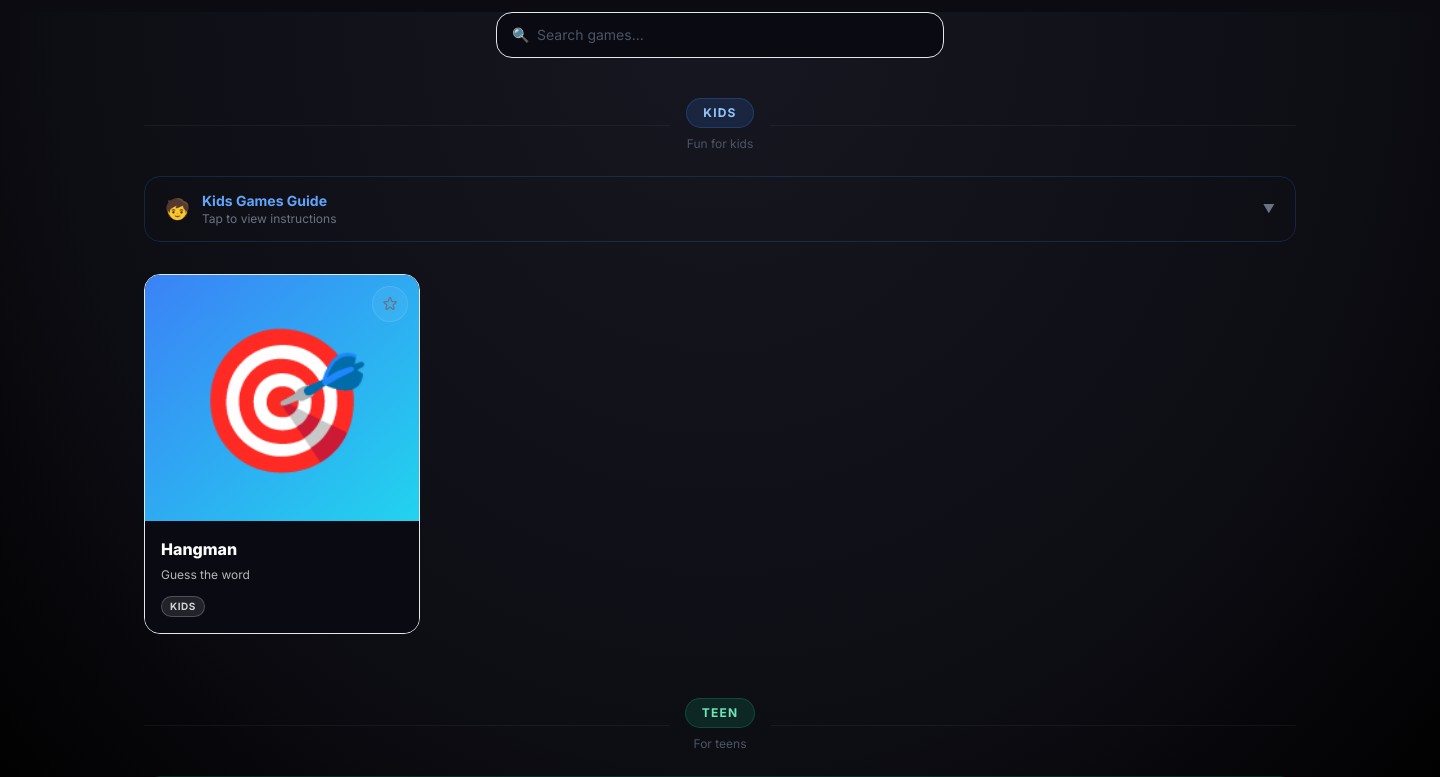
Scenario: GamesClient › expands HowToPlay box on click
The width and height of the screenshot is (1440, 777).
Click the button "🧒 Kids Games Guide Tap to view instructions ▼" at (264, 200), box [144, 176, 1296, 242]
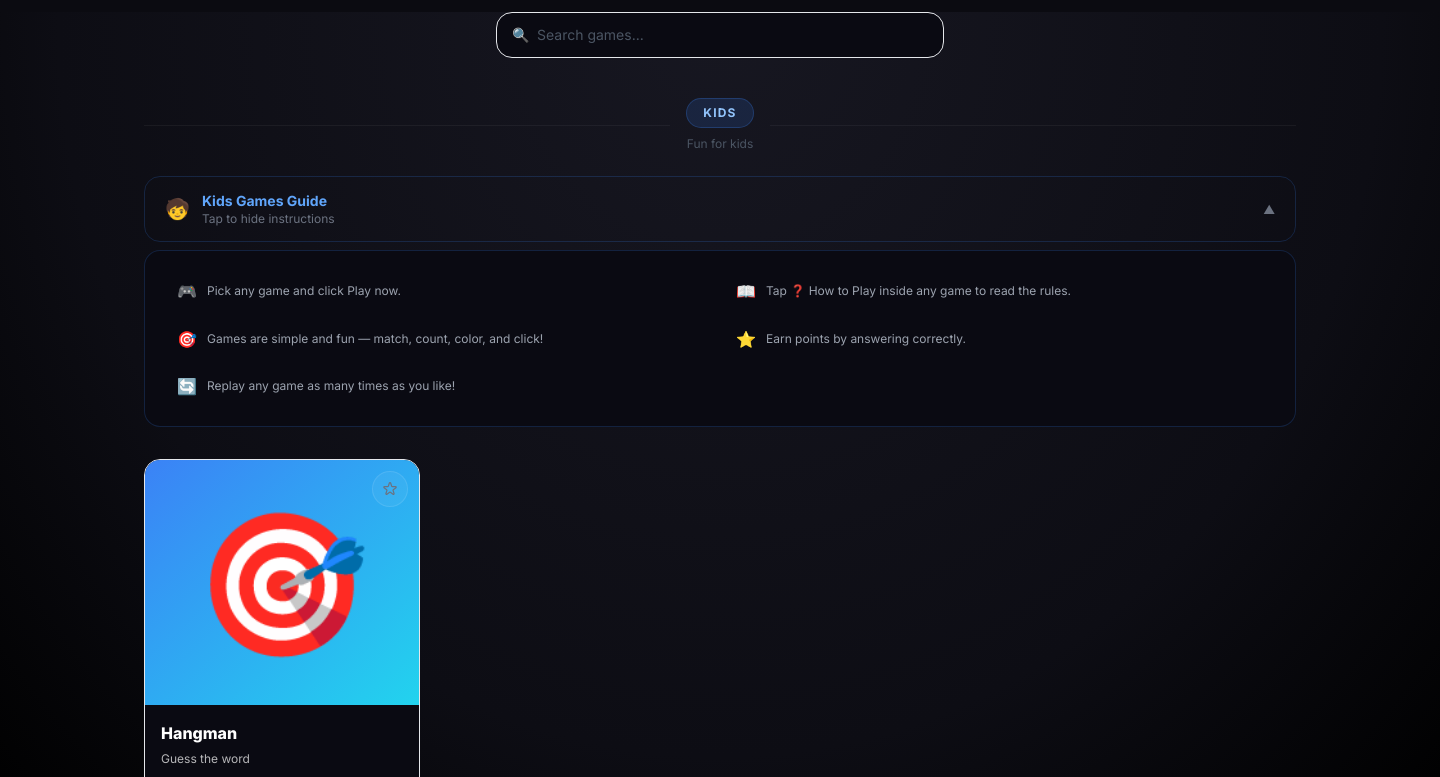
Now the text "Pick any game and click Play now." is shown, box [207, 281, 401, 300]
